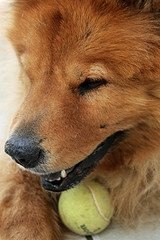tennis ball: (55, 178, 115, 235)
